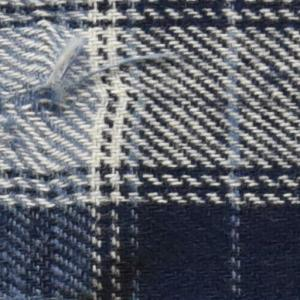Damage: (2, 3, 182, 162)
Stain: (89, 253, 148, 300)
